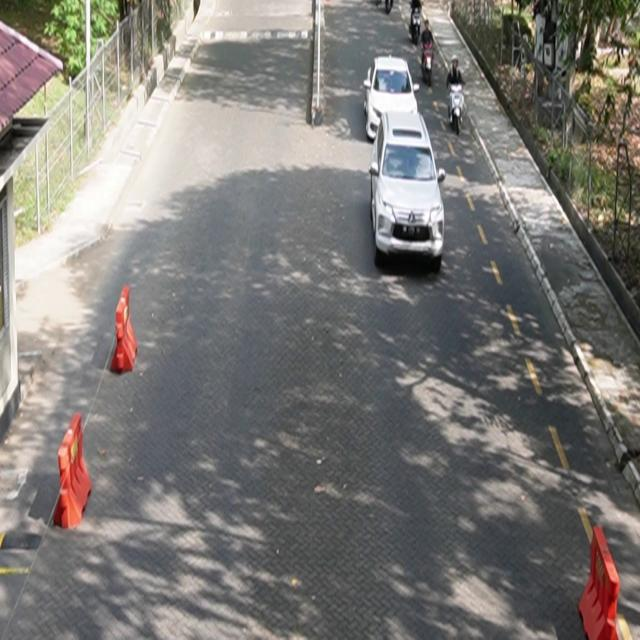car: (369, 110, 447, 272), (364, 56, 420, 142)
